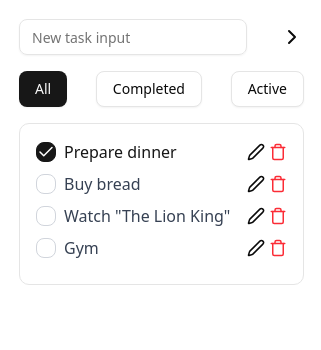
Test: MainTemplate › sholud display error message when title is more than 20 characters
Type "New task is more than 20 characters" into the field with placeholder "New task input" at (133, 37), box [19,19,247,55]
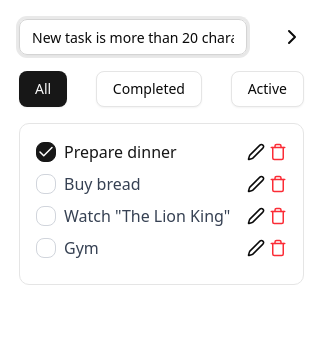
Click the button with test id "submitBtn" at (292, 37), box [280,25,304,49]
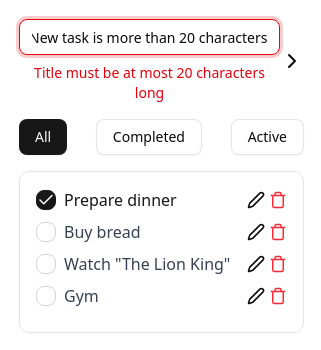
Check: the text "Title must be at most 20 characters long" is shown, box [19,63,280,103]
